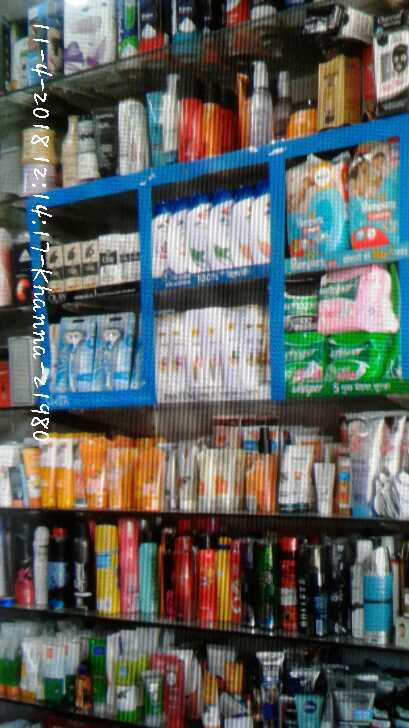venus: (92, 311, 133, 391), (57, 316, 92, 391)
